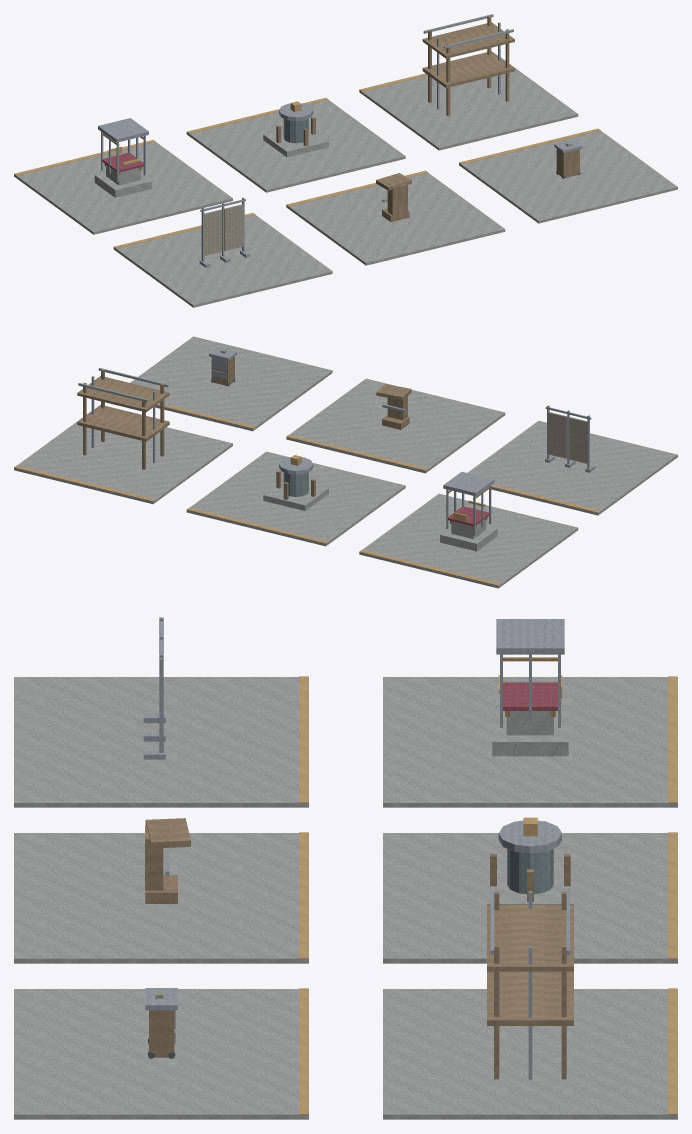
Rendered from level_blockout_kit_castle_p02.glb.
The picture shows the model from 3 angles, top to bottom: view 1: azimuth 30°, elevation 25°; view 2: azimuth 150°, elevation 25°; view 3: azimuth 270°, elevation 25°; orthographic projection. The views are drawn at different scales.
Parts seen in each view (by area): view 1: level_blockout_kit_castle_p02; view 2: level_blockout_kit_castle_p02; view 3: level_blockout_kit_castle_p02.
Boxes of the visible parts, left/top/right/bottom form: level_blockout_kit_castle_p02: left=14, top=14, right=677, bottom=307; level_blockout_kit_castle_p02: left=14, top=336, right=677, bottom=588; level_blockout_kit_castle_p02: left=14, top=617, right=677, bottom=1119.
Size of the model in its own units: 19.65 by 2.87 by 12.6.
11 materials, 11 textured.
